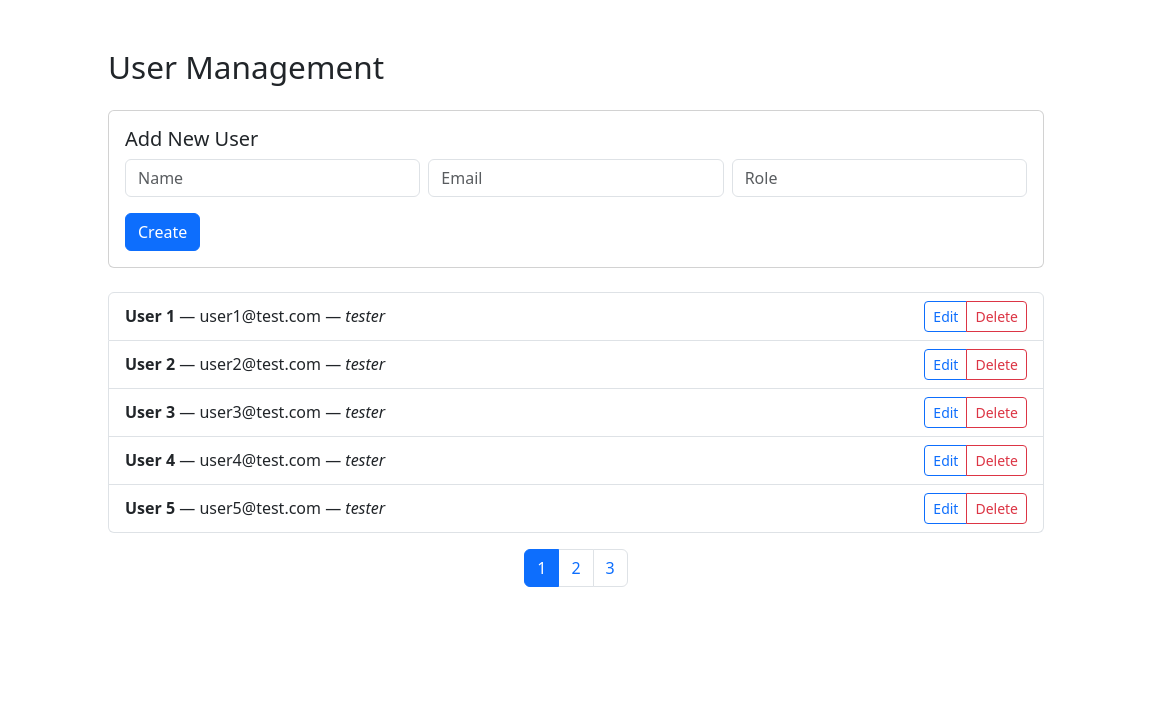
Scenario: UserManagement component › cancels deletion when Cancel clicked
This screenshot has width=1152, height=720.
Click the button with aria-label "Delete user 1" at [997, 316], box x1=966 y1=301 x2=1027 y2=332
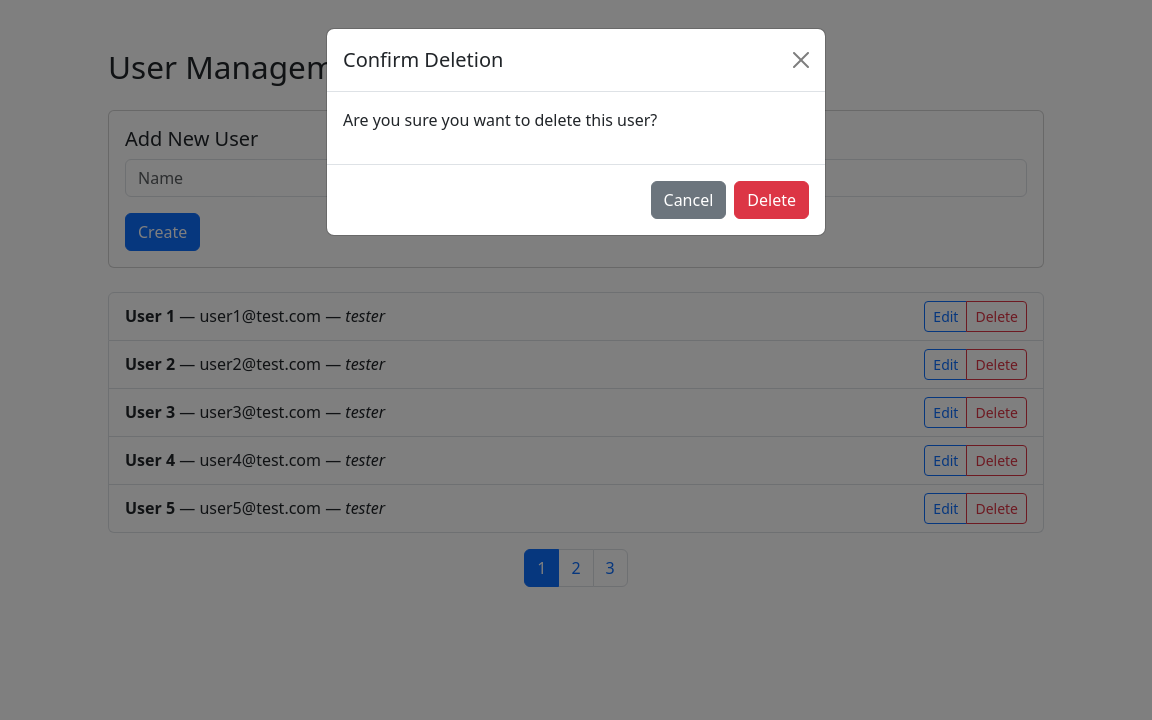
Click the button "Cancel" at [688, 200], box x1=650 y1=181 x2=726 y2=219
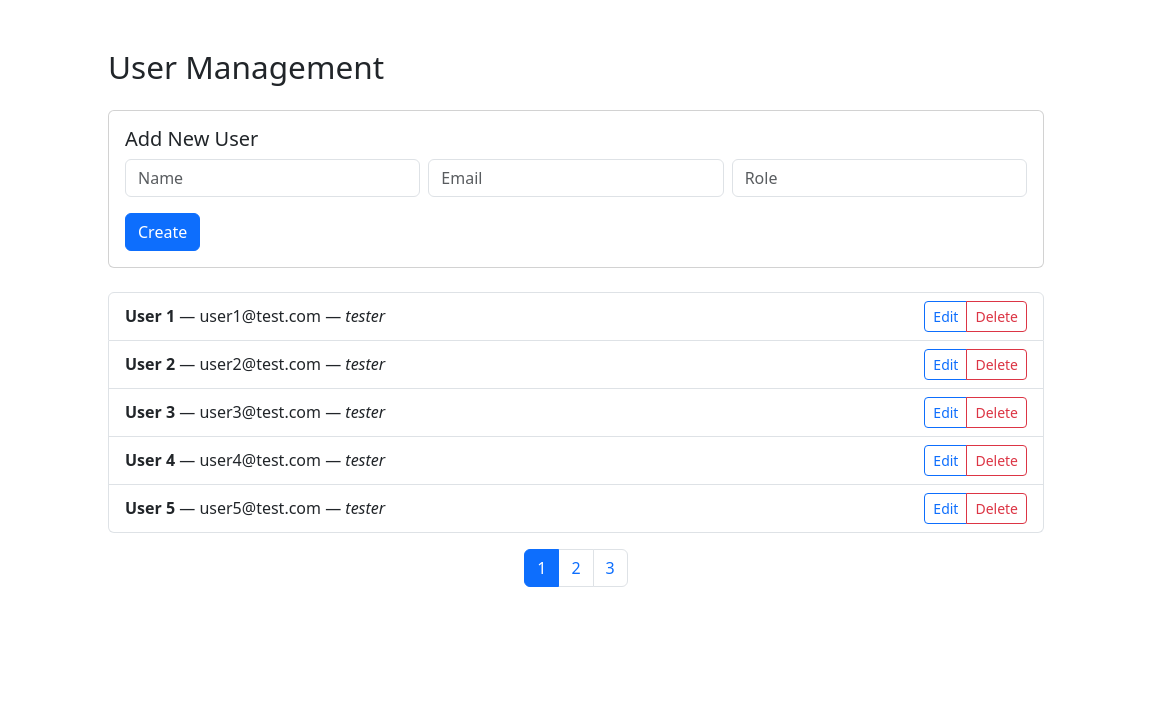
Now the dialog is gone
